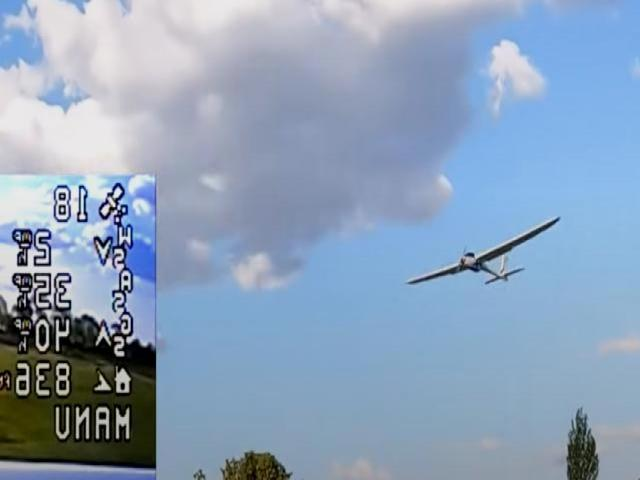iha: (406, 214, 560, 292)
